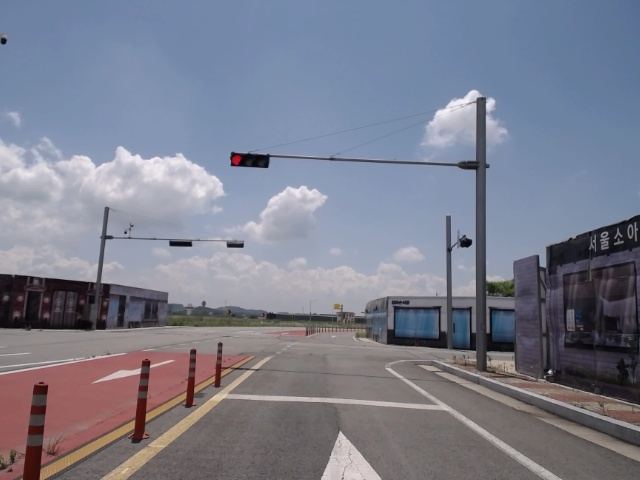red_3: (229, 153, 271, 172)
